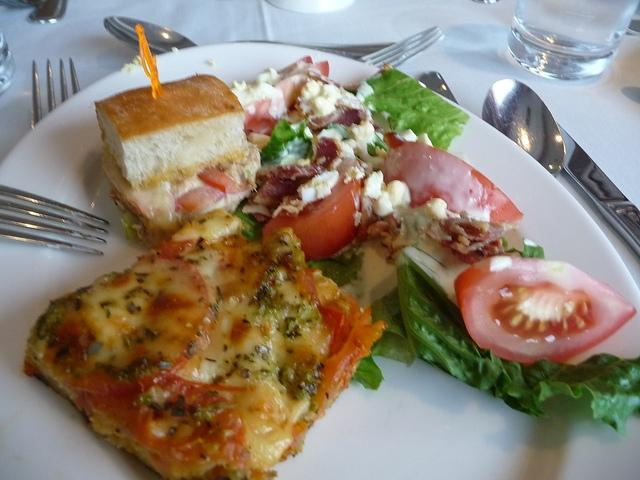lettuce: (397, 255, 640, 436), (364, 70, 469, 153), (350, 293, 414, 390), (260, 118, 314, 168), (306, 252, 366, 288), (232, 203, 264, 242), (498, 236, 545, 259)
tomato: (453, 252, 640, 362), (383, 142, 525, 227), (262, 177, 362, 260), (244, 61, 329, 136), (64, 368, 170, 397), (317, 305, 349, 353), (197, 166, 250, 194), (174, 185, 223, 215)
